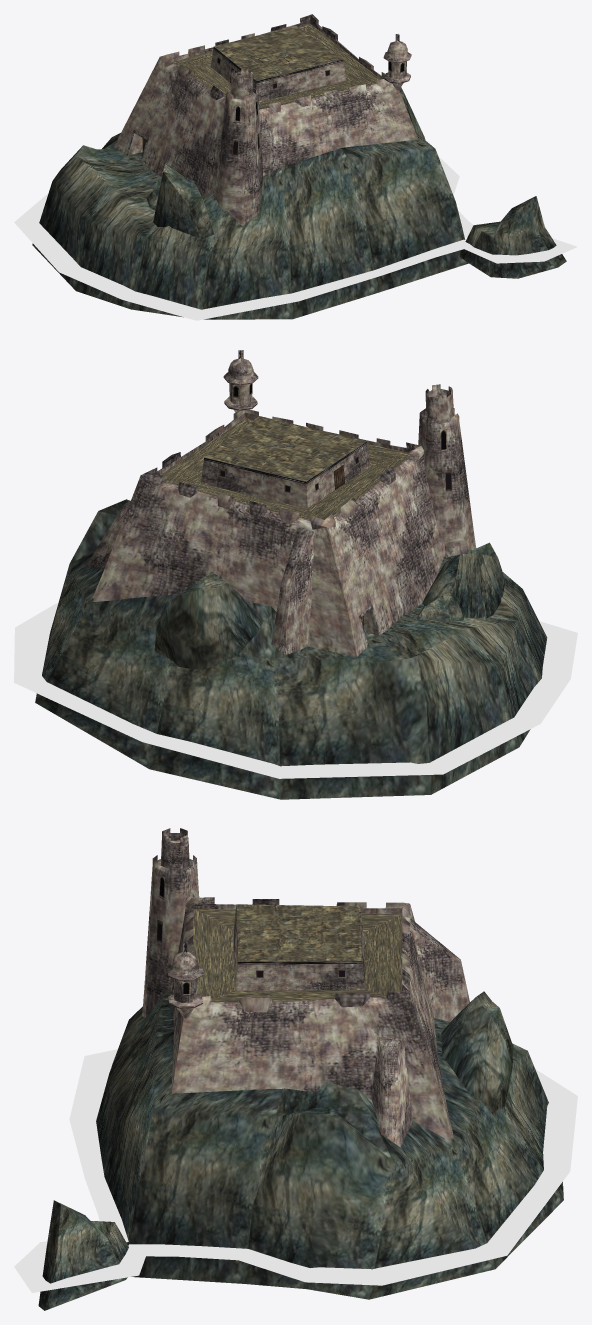
Rendered from pir_m_prp_ocn_fortIsland.fbx.
3 views of the same model, one above another, from view 1: azimuth 30°, elevation 25°; view 2: azimuth 150°, elevation 25°; view 3: azimuth 270°, elevation 25° (orthographic). The views are drawn at different scales.
Parts seen in each view (by area): view 1: terrain_mesh, exterior_walls, wave, roof, large_tower, rock_water_01, rock_med_01, interior_walls, exterior_parapets, corner_tower; view 2: terrain_mesh, exterior_walls, wave, roof, rock_med_02, large_tower, rock_med_01, interior_walls, butress1, exterior_parapets, corner_tower, butress2 (+1 smaller); view 3: terrain_mesh, exterior_walls, wave, roof, rock_med_02, large_tower, rock_water_01, interior_walls, butress2, butress1, exterior_parapets, corner_tower.
Part boxes in pixels (x1,y1,x2,y2): terrain_mesh: (32, 87, 468, 319); exterior_walls: (114, 20, 418, 194); wave: (14, 156, 577, 320); roof: (174, 24, 380, 109); large_tower: (213, 67, 263, 225); rock_water_01: (460, 196, 566, 278); rock_med_01: (153, 163, 214, 239); interior_walls: (211, 49, 346, 102); exterior_parapets: (160, 14, 391, 112); corner_tower: (384, 40, 411, 90); terrain_mesh: (35, 499, 547, 799); exterior_walls: (91, 412, 445, 657); wave: (14, 603, 577, 778); roof: (161, 416, 409, 520); rock_med_02: (154, 572, 263, 669); large_tower: (418, 384, 476, 557); rock_med_01: (422, 542, 505, 618); interior_walls: (200, 444, 370, 508); butress1: (271, 527, 314, 655); exterior_parapets: (141, 409, 423, 529); corner_tower: (224, 358, 258, 412); butress2: (86, 500, 130, 569); terrain_mesh: (96, 991, 563, 1299); exterior_walls: (171, 903, 454, 1143); wave: (14, 1049, 577, 1292); roof: (193, 904, 402, 1002); rock_med_02: (441, 991, 513, 1116); large_tower: (142, 828, 199, 1017); rock_water_01: (38, 1200, 128, 1310); interior_walls: (233, 909, 364, 990); butress2: (371, 1037, 412, 1147); butress1: (410, 918, 469, 1021); exterior_parapets: (185, 897, 409, 1012); corner_tower: (167, 951, 203, 1018).
Bounding box in the file's own units: 24890 × 13149 × 21807.
Materials: 3 (3 with a texture image).
